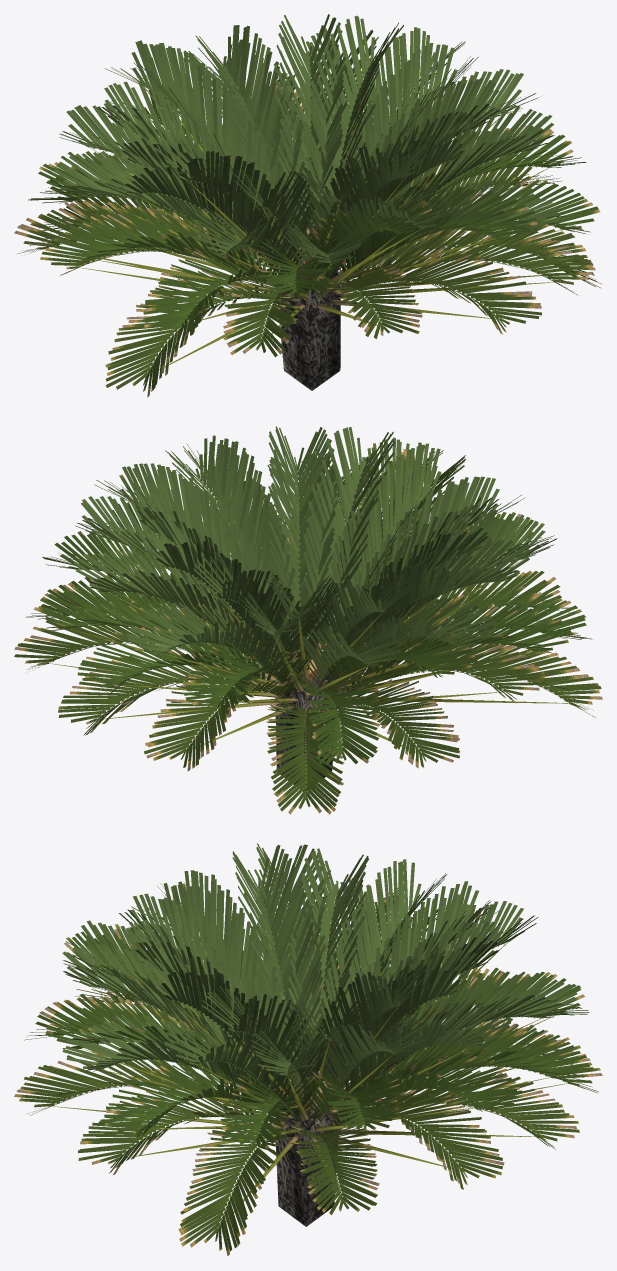
File: Cycas revoluta HD_Standard 1 trunk mat 0_LOD4.fbx
3 views of the same model, one above another, from view 1: azimuth 30°, elevation 25°; view 2: azimuth 150°, elevation 25°; view 3: azimuth 270°, elevation 25° (orthographic).
Parts seen in each view (by area): view 1: Cycas_revoluta_HD; view 2: Cycas_revoluta_HD; view 3: Cycas_revoluta_HD.
Boxes of the visible parts, left/top/right/bottom form: Cycas_revoluta_HD: left=14, top=14, right=602, bottom=397; Cycas_revoluta_HD: left=14, top=426, right=602, bottom=814; Cycas_revoluta_HD: left=14, top=843, right=602, bottom=1255.
Size of the model in its own units: 0.7574 by 0.416 by 0.7485.
7 materials, 7 textured.
